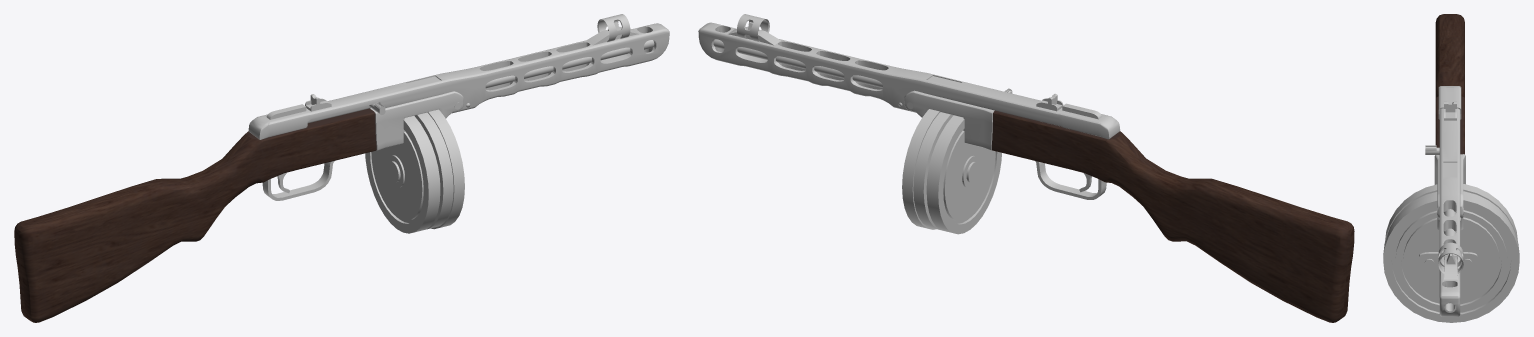
Rendered from ppw41.obj.
3 renders of one model, left to right at view 1: azimuth 30°, elevation 25°; view 2: azimuth 150°, elevation 25°; view 3: azimuth 270°, elevation 25°, orthographic. The views are drawn at different scales.
Visible parts, largest first — view 1: Cube, Cube.001, Cylinder, Cube.007, Cylinder.004, Cube.003, Cylinder.005; view 2: Cube, Cube.001, Cylinder, Cube.007, Cylinder.004, Cube.003, Cylinder.005; view 3: Cylinder, Cube.001, Cube, Cube.007, Cube.002, Cylinder.005, Cube.005, Cylinder.004, Cube.006, Cylinder.006.
Boxes of the visible parts, <box> form: Cube: <box>14,108,376,322</box>; Cube.001: <box>248,23,669,139</box>; Cylinder: <box>365,109,464,233</box>; Cube.007: <box>370,91,463,150</box>; Cylinder.004: <box>485,40,654,88</box>; Cube.003: <box>262,161,334,200</box>; Cylinder.005: <box>597,14,630,41</box>; Cube: <box>991,110,1354,322</box>; Cube.001: <box>698,22,1120,139</box>; Cylinder: <box>902,109,1001,234</box>; Cube.007: <box>904,90,994,150</box>; Cylinder.004: <box>713,39,882,87</box>; Cube.003: <box>1035,161,1106,199</box>; Cylinder.005: <box>737,14,769,41</box>; Cylinder: <box>1383,184,1519,322</box>; Cube.001: <box>1438,86,1461,316</box>; Cube: <box>1435,14,1464,154</box>; Cube.007: <box>1434,154,1465,230</box>; Cube.002: <box>1419,252,1477,271</box>; Cylinder.005: <box>1438,242,1463,273</box>; Cube.005: <box>1444,254,1457,279</box>; Cylinder.004: <box>1444,209,1456,312</box>; Cube.006: <box>1444,101,1456,120</box>; Cylinder.006: <box>1425,145,1439,154</box>.
Bounding box in the file's own units: 8.33 × 1.98 × 1.46.
